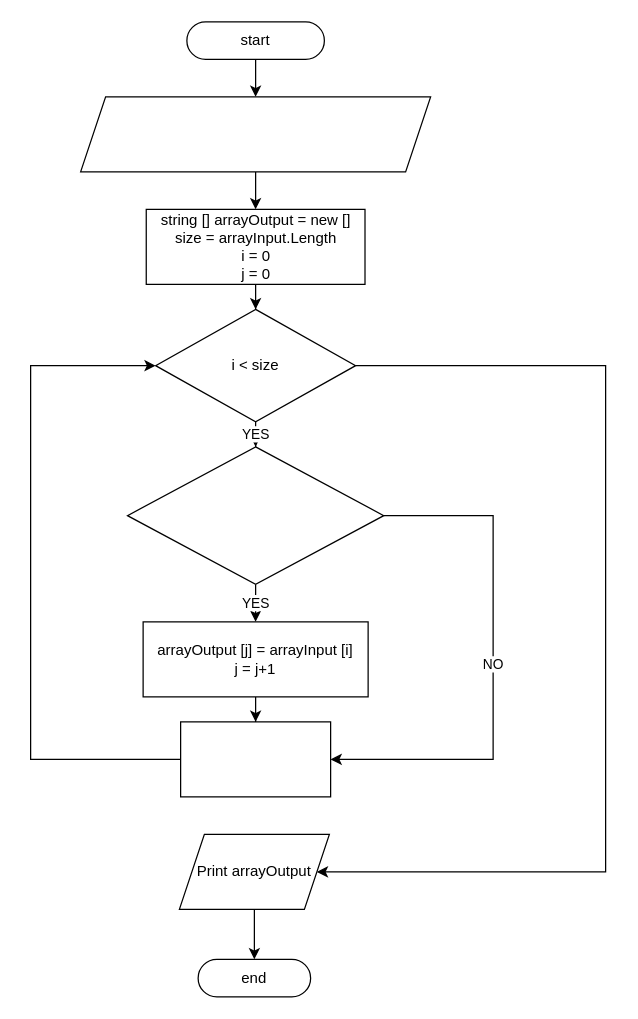
The diagram is 638 pixels wide and 1019 high, and some of its shapes have lost their labels. The centre of each missing label's shape, as x and y in pixels:
i = i + 1: (255,759)
Length of arrayInput [i] <= 3?: (255,515)
string [] arrayInput = ["Hello"; "2"; "world"; ":-)"]: (255,134)
